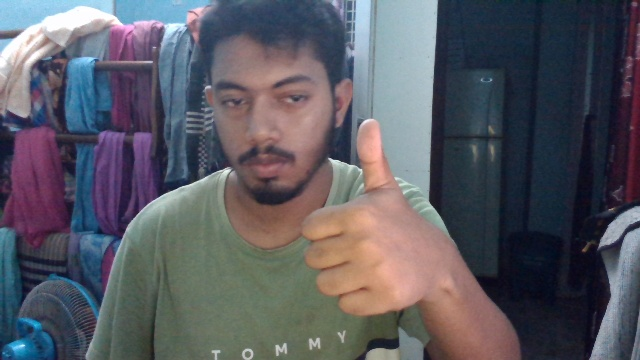yes: (294, 118, 452, 318)
